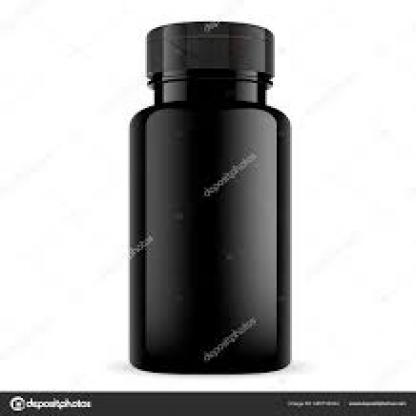jar: (130, 24, 290, 372)
